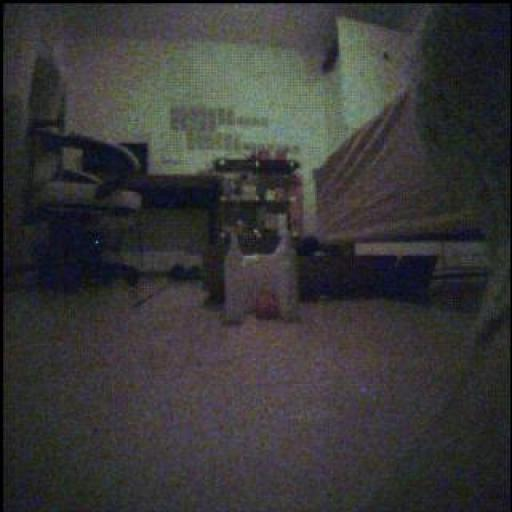basket: (252, 287, 280, 322)
